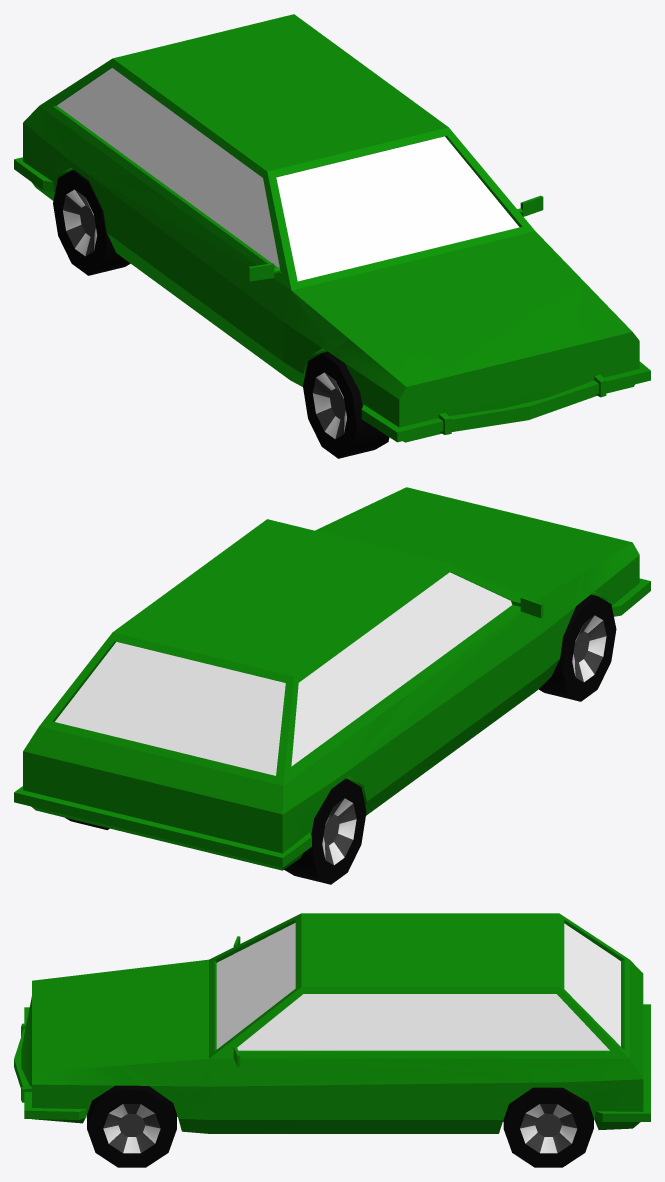
The model's file is COCHE_01.FBX.
3 renders of one model, top to bottom at view 1: azimuth 30°, elevation 25°; view 2: azimuth 150°, elevation 25°; view 3: azimuth 270°, elevation 25°, orthographic. The views are drawn at different scales.
Visible parts, largest first — view 1: Object010, Object016, Object017; view 2: Object010, Object016, Object017; view 3: Object010, Object011, Object015.
Boxes of the visible parts, x1=… form: Object010: x1=14, y1=14, x2=650, y2=442; Object016: x1=303, y1=351, x2=389, y2=458; Object017: x1=53, y1=170, x2=130, y2=275; Object010: x1=14, y1=487, x2=650, y2=870; Object016: x1=538, y1=594, x2=616, y2=701; Object017: x1=284, y1=778, x2=366, y2=884; Object010: x1=14, y1=913, x2=650, y2=1133; Object011: x1=87, y1=1085, x2=176, y2=1167; Object015: x1=503, y1=1087, x2=593, y2=1167.
Size of the model in its own units: 39.63 by 25.46 by 89.38.
